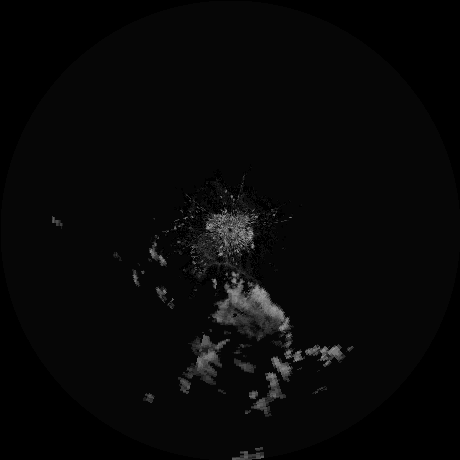frontgust: (207, 254, 252, 281)
